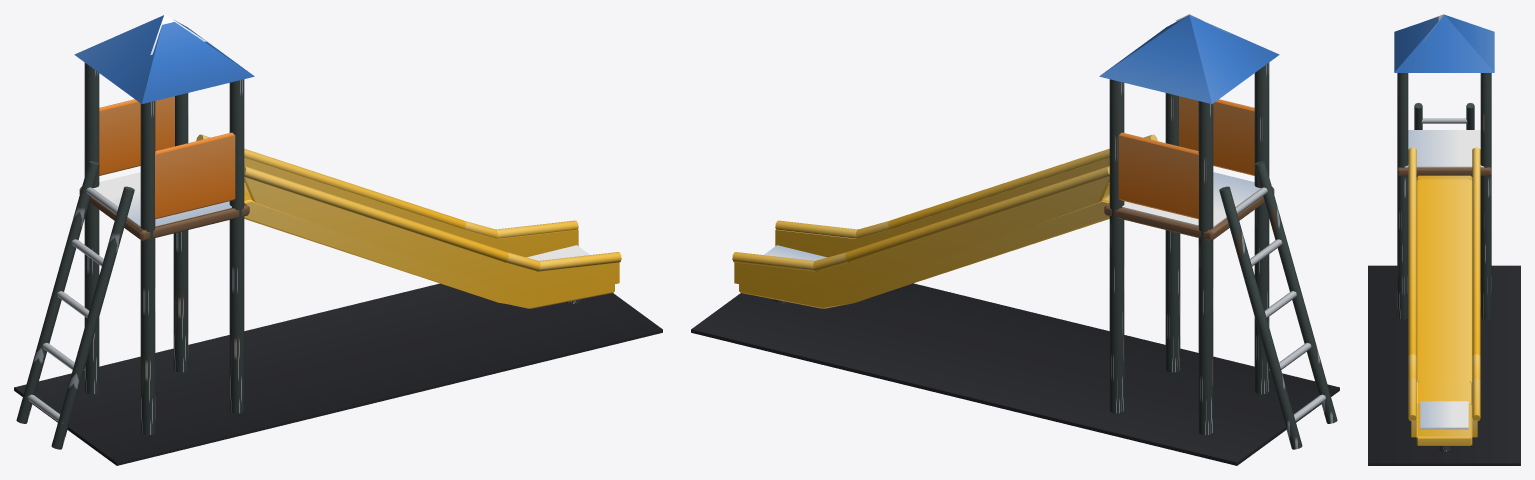
File: ck_slide.fbx
The picture shows the model from 3 angles, left to right: view 1: azimuth 30°, elevation 25°; view 2: azimuth 150°, elevation 25°; view 3: azimuth 270°, elevation 25°; orthographic projection. The views are drawn at different scales.
Parts seen in each view (by area): view 1: ck_slide; view 2: ck_slide; view 3: ck_slide.
Boxes of the visible parts, x1,y1,x2,y2 form: ck_slide: (14,14,662,465); ck_slide: (691,14,1339,465); ck_slide: (1368,14,1520,465).
Bounding box in the file's own units: 980 × 636 × 302.
